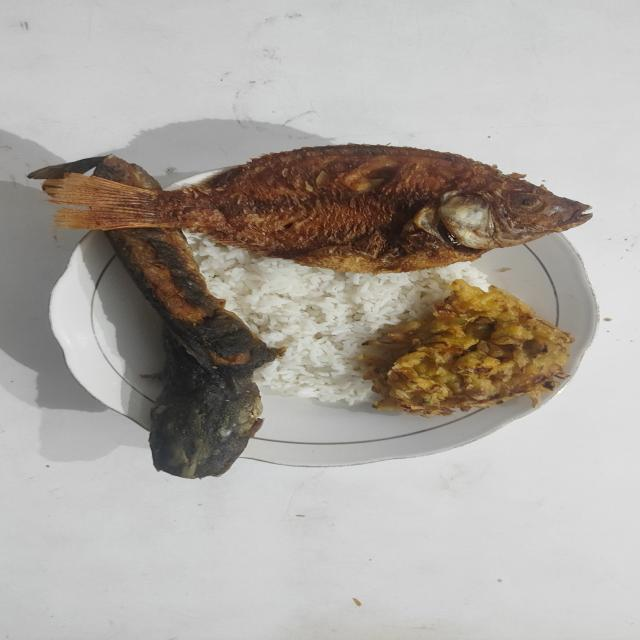ikan_mujair: (42, 144, 592, 274)
nasi_putih: (185, 233, 489, 406)
